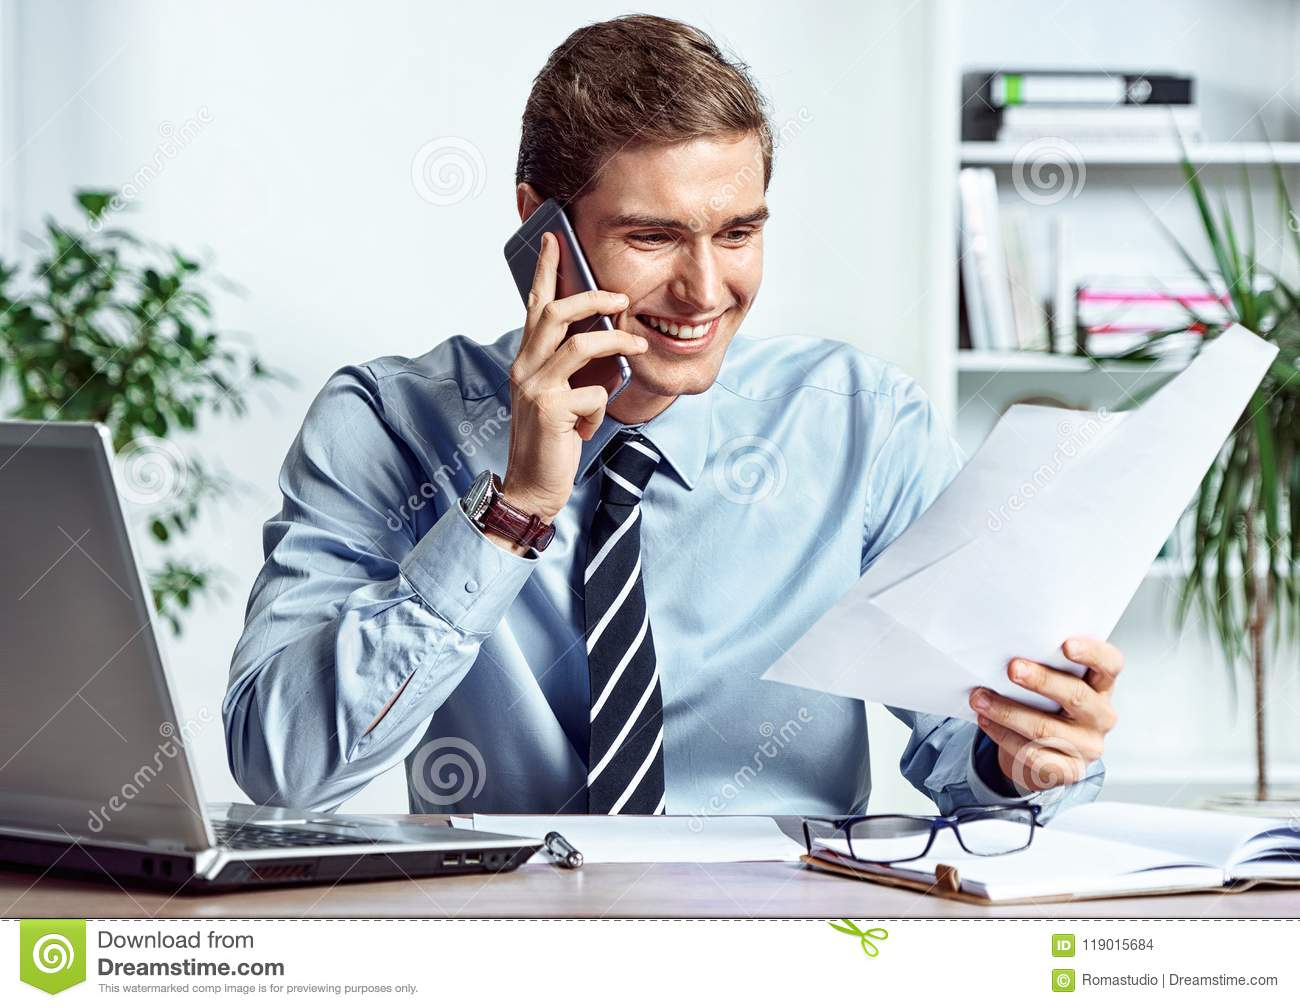phone: (506, 197, 632, 420)
talk: (500, 183, 767, 521)
